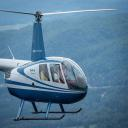helicopter: (1, 7, 89, 122)
